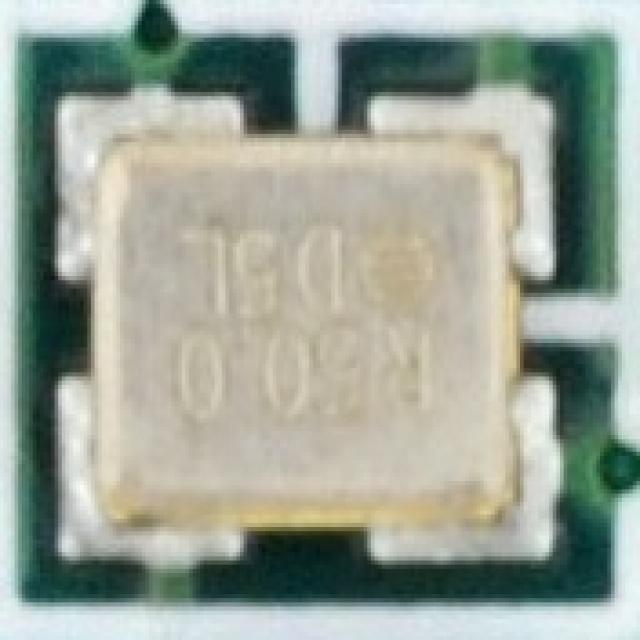clock Q1: (58, 95, 576, 575)
